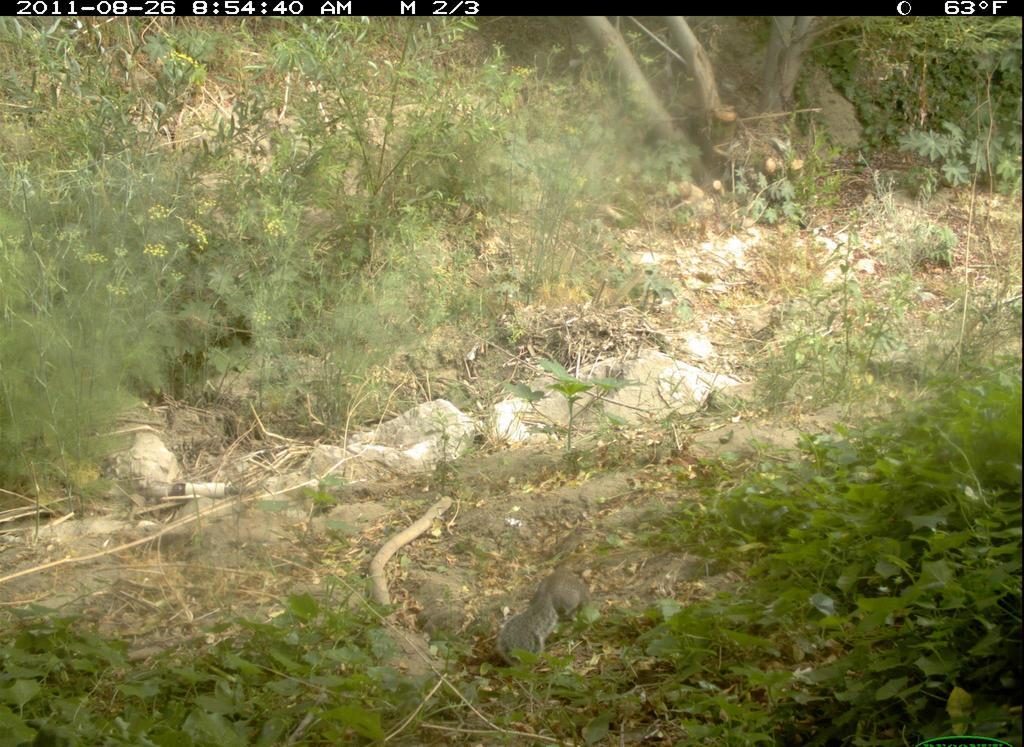squirrel: (486, 521, 621, 671)
